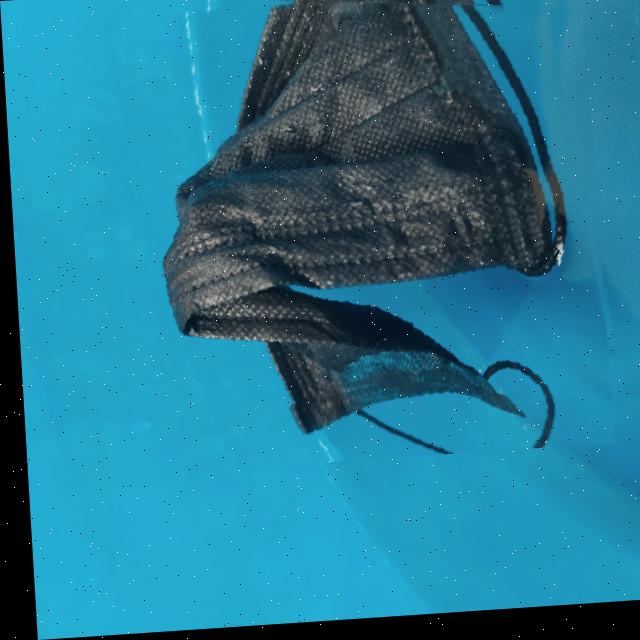litter: (119, 0, 609, 475)
